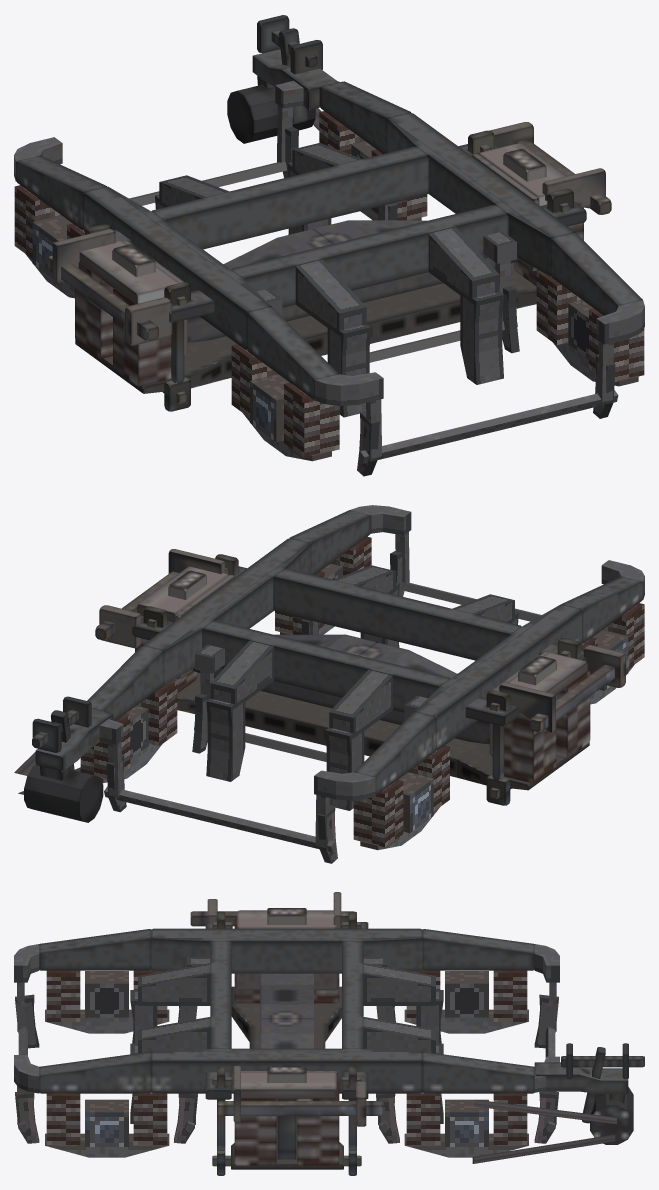
The model's file is pk209p_main_hl.obj.
3 views of the same model, one above another, from view 1: azimuth 30°, elevation 25°; view 2: azimuth 150°, elevation 25°; view 3: azimuth 270°, elevation 25° (orthographic). The views are drawn at different scales.
Parts seen in each view (by area): view 1: cube; view 2: cube; view 3: cube.
Part boxes in pixels (<box>): cube: <box>14,15,644,476</box>; cube: <box>14,505,644,863</box>; cube: <box>14,892,644,1175</box>.
Size of the model in its own units: 3.15 by 0.7775 by 4.22.
